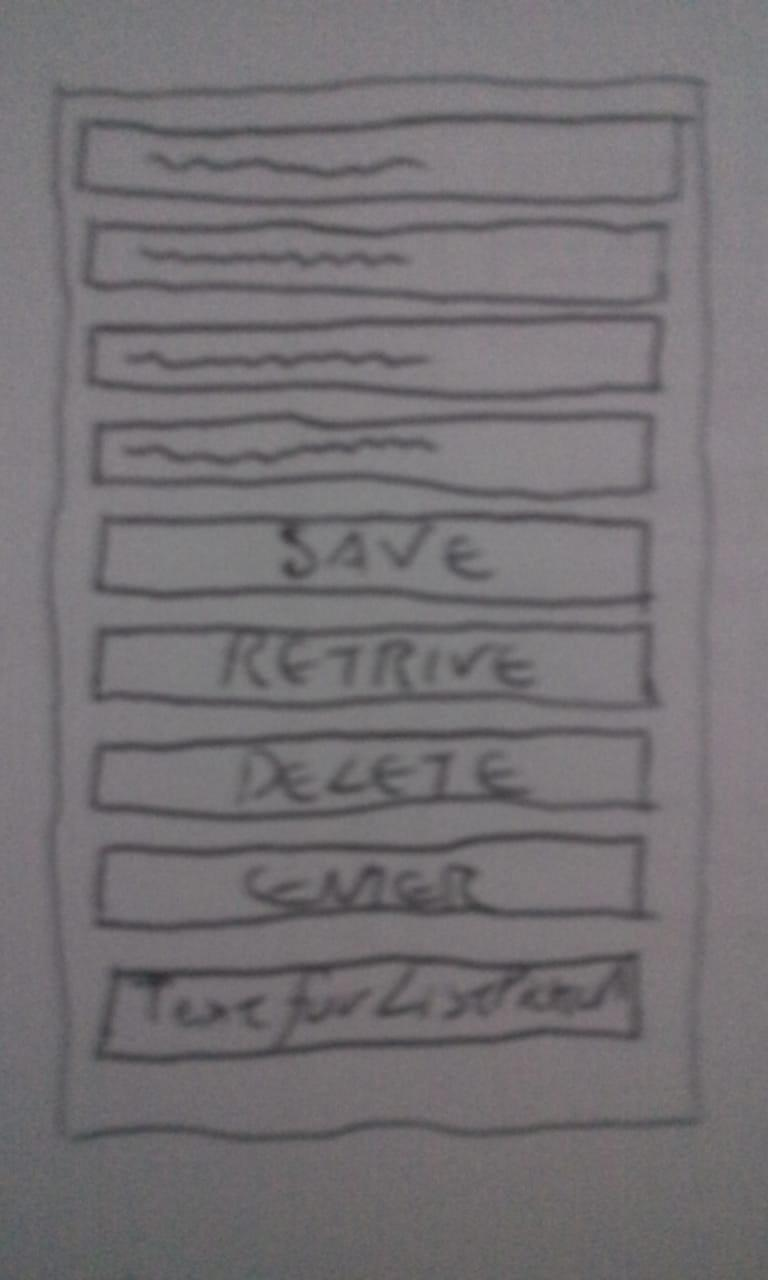Button: (95, 950, 645, 1065), (92, 510, 653, 610), (88, 725, 651, 823), (91, 832, 645, 930), (90, 620, 661, 712)
Screen: (44, 75, 716, 1143)
TextBox: (81, 115, 684, 209), (83, 216, 670, 308), (93, 412, 655, 501), (85, 315, 665, 400)
